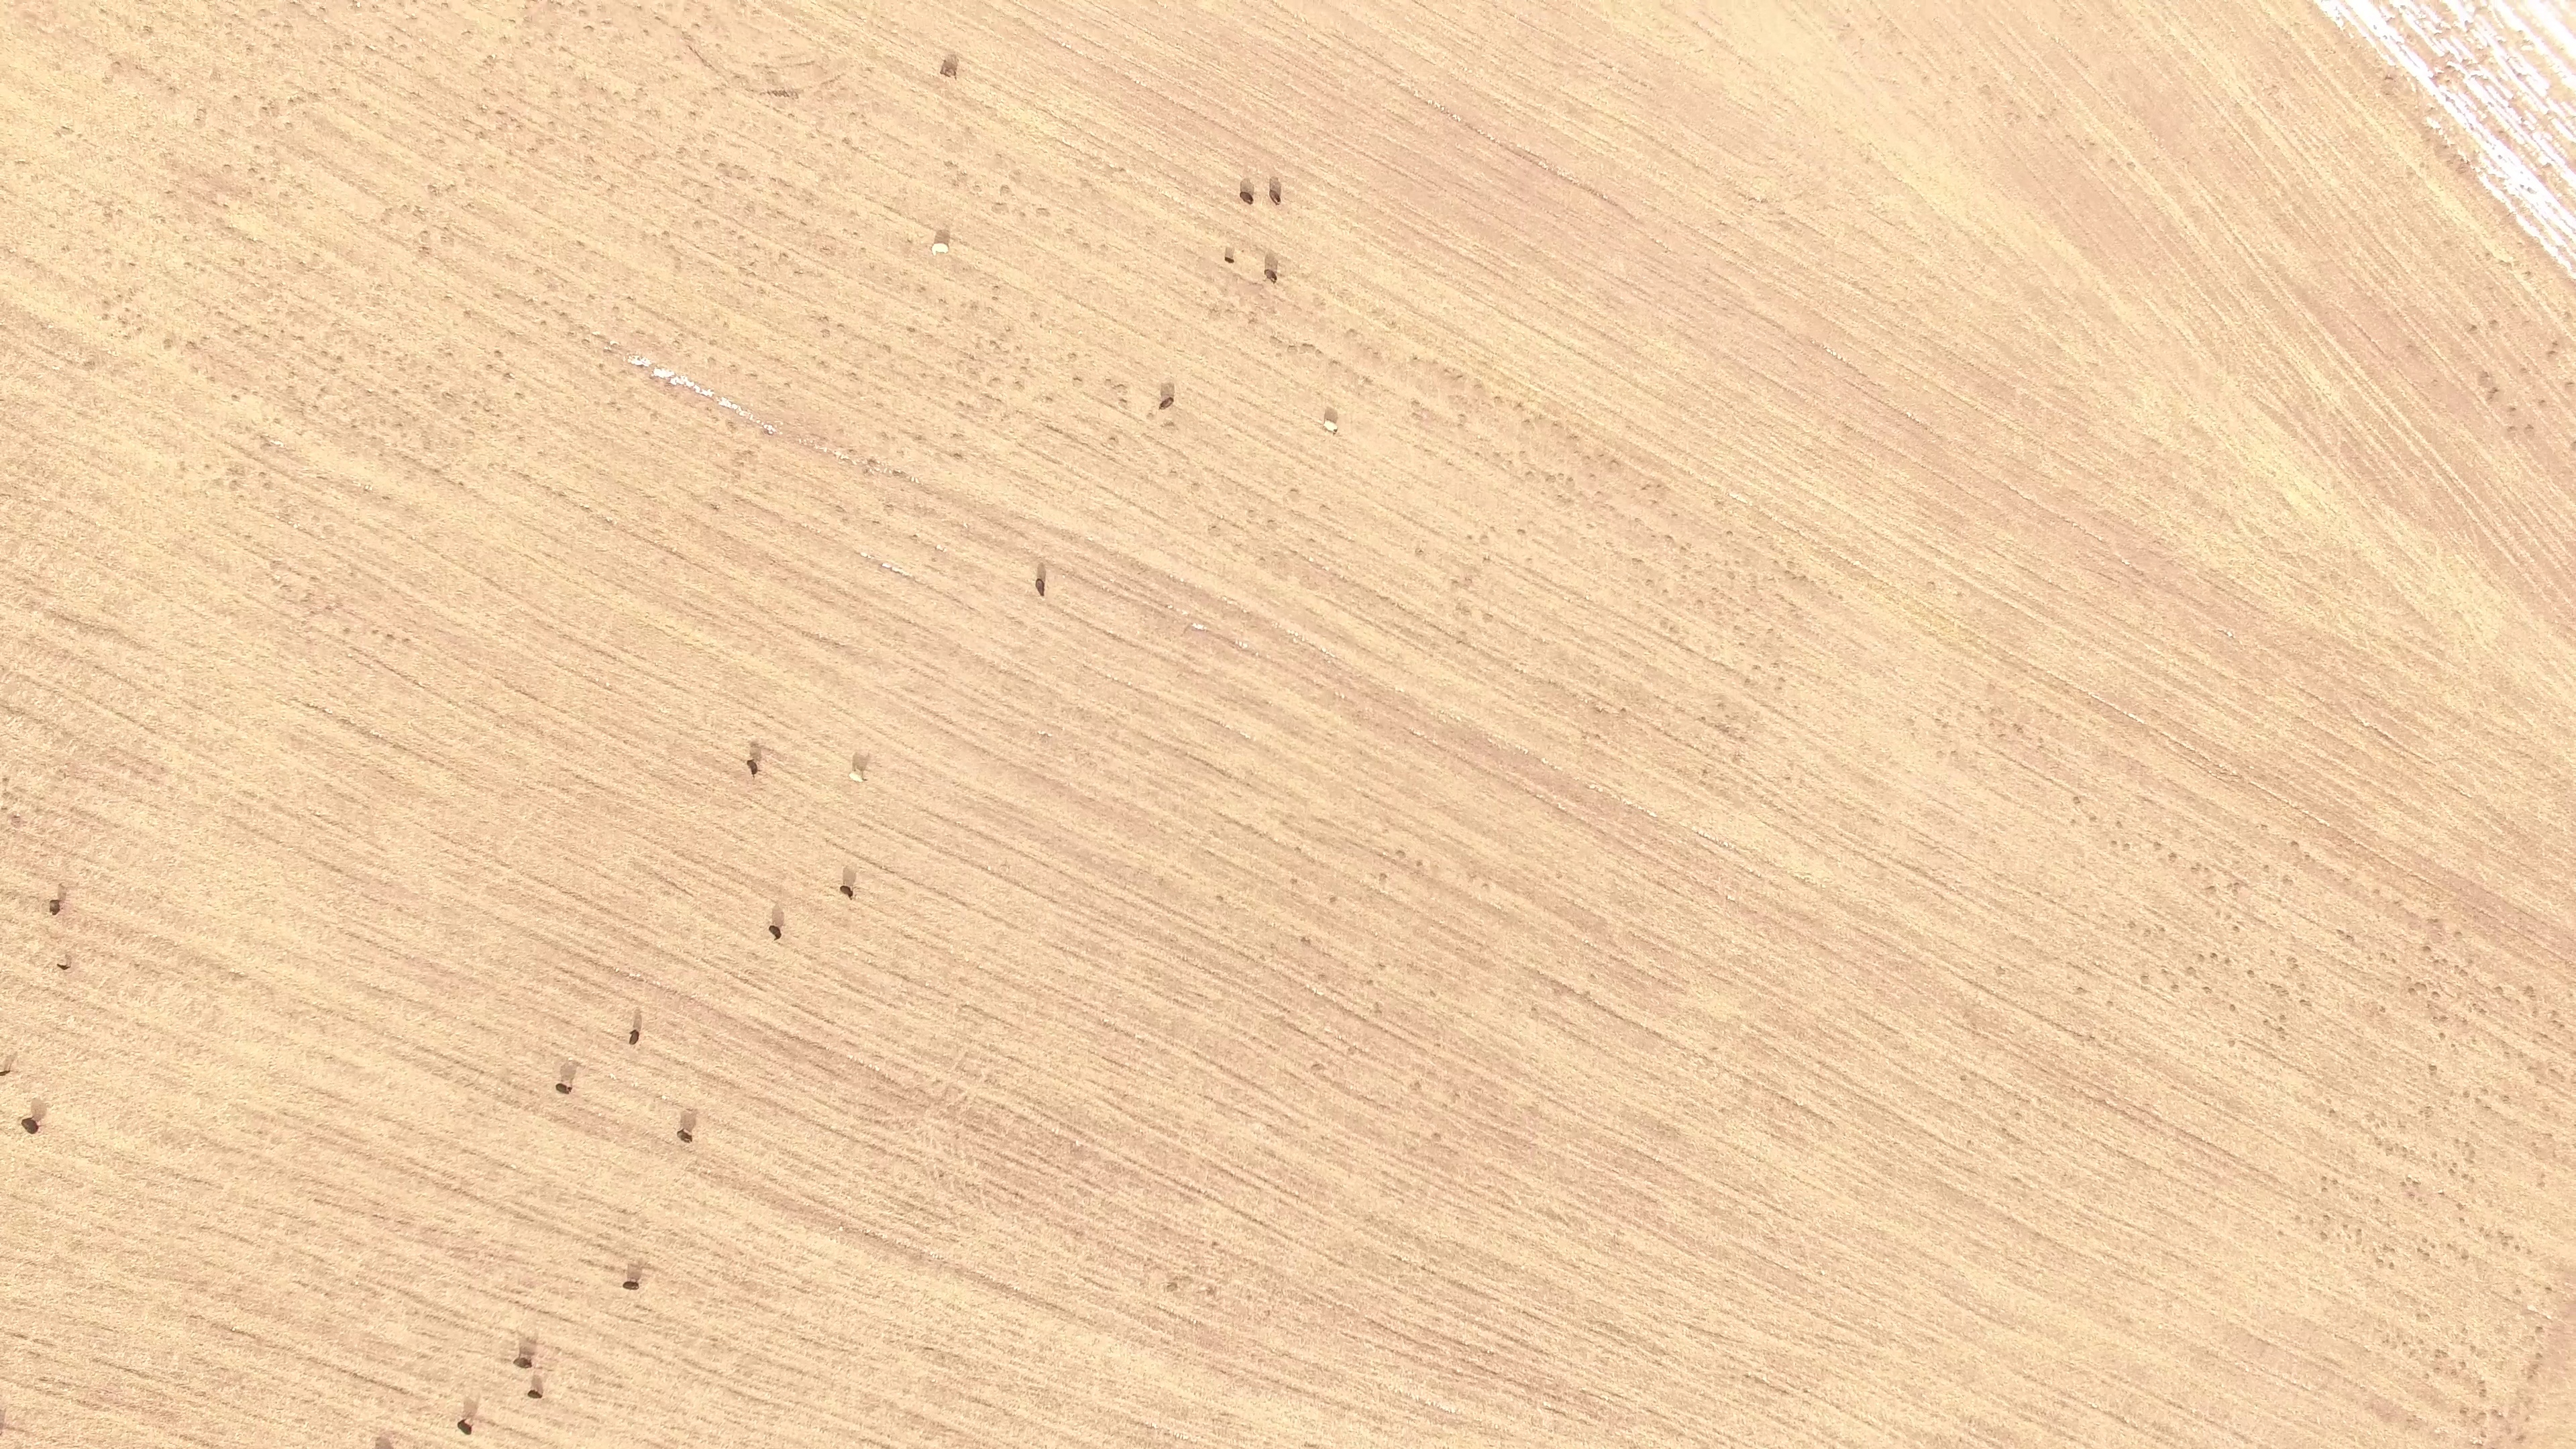sheep: (18, 1113, 44, 1138), (672, 1124, 699, 1146), (741, 755, 764, 780), (508, 1354, 538, 1372), (763, 922, 787, 943), (837, 880, 859, 902), (928, 239, 954, 256), (46, 897, 67, 918), (1236, 188, 1257, 208), (619, 1276, 645, 1293), (454, 1417, 475, 1438), (552, 1080, 575, 1097), (627, 1025, 644, 1048), (1032, 574, 1049, 599), (1320, 417, 1341, 436), (524, 1386, 547, 1402), (1157, 394, 1177, 413), (1266, 187, 1285, 206), (1260, 268, 1281, 284), (937, 64, 959, 79), (847, 769, 867, 786), (1221, 251, 1237, 267), (57, 962, 72, 973), (1, 1067, 12, 1079)
unknown: (849, 753, 870, 774), (372, 1434, 396, 1449), (560, 1063, 579, 1083), (651, 366, 674, 380), (769, 87, 789, 99), (462, 1409, 477, 1422), (523, 1335, 539, 1348), (1752, 1375, 1767, 1387), (2426, 1062, 2440, 1074), (2420, 943, 2434, 955), (1298, 934, 1313, 947), (2488, 384, 2501, 397), (468, 1401, 480, 1414), (1167, 1279, 1181, 1291), (2226, 1002, 2239, 1014), (231, 970, 243, 981), (2458, 1252, 2471, 1263), (2429, 72, 2443, 84), (1204, 1287, 1218, 1297), (1209, 1238, 1220, 1249), (2460, 1171, 2471, 1182), (2405, 985, 2417, 996), (2523, 983, 2536, 994), (2169, 981, 2181, 992), (2245, 967, 2257, 978), (62, 952, 74, 963), (1327, 894, 1339, 905), (2206, 883, 2218, 893), (1719, 726, 1731, 736), (684, 379, 696, 389), (631, 357, 644, 368), (2468, 322, 2479, 334), (2488, 317, 2500, 327), (2538, 174, 2548, 185), (2455, 167, 2466, 177), (2438, 142, 2451, 152), (2457, 1407, 2467, 1417), (390, 1383, 400, 1393), (2525, 1372, 2536, 1383), (2533, 1350, 2544, 1360), (14, 1331, 24, 1341), (2533, 1324, 2544, 1334), (952, 1265, 963, 1276), (606, 1263, 617, 1274), (2386, 1260, 2397, 1271), (2477, 1224, 2487, 1234), (2410, 1179, 2421, 1189), (2319, 1173, 2330, 1184), (872, 1117, 883, 1127), (2326, 1106, 2337, 1117), (2436, 1030, 2447, 1040), (2275, 1024, 2286, 1034), (2460, 1017, 2470, 1028), (2277, 1012, 2288, 1023), (2550, 1008, 2560, 1018), (900, 973, 910, 983), (2291, 961, 2301, 971), (131, 961, 142, 971), (2222, 956, 2233, 967), (2335, 927, 2345, 937), (333, 865, 343, 875), (1414, 858, 1424, 869), (2288, 839, 2299, 849), (2088, 814, 2098, 824), (1, 775, 11, 785), (1216, 766, 1227, 777), (386, 631, 396, 643), (1449, 577, 1460, 587), (914, 433, 925, 443), (1165, 419, 1177, 429), (704, 387, 714, 398), (500, 370, 511, 380), (596, 361, 606, 371), (334, 353, 345, 363), (2550, 339, 2560, 350), (163, 336, 173, 346), (296, 333, 307, 343), (907, 325, 918, 335), (462, 308, 473, 318), (2542, 160, 2553, 171), (2382, 73, 2392, 83), (2514, 70, 2524, 80), (2443, 62, 2455, 72), (2459, 56, 2470, 66), (2473, 4, 2483, 14), (1736, 734, 1748, 744), (1, 1419, 7, 1433), (2516, 1432, 2527, 1442), (614, 1381, 625, 1391), (2531, 1361, 2541, 1371), (2354, 1226, 2364, 1236), (619, 1206, 629, 1216), (2455, 1201, 2465, 1211), (2398, 1179, 2408, 1189), (1998, 1125, 2008, 1135), (1804, 1106, 1814, 1116), (2438, 1013, 2449, 1023), (2209, 951, 2219, 961), (668, 879, 678, 890), (2169, 851, 2180, 861), (2109, 838, 2120, 848), (2071, 794, 2081, 804), (1700, 766, 1710, 777), (2376, 730, 2386, 740), (1939, 721, 1949, 731), (370, 627, 380, 637), (1797, 574, 1807, 584), (381, 493, 391, 503), (761, 427, 772, 437), (2524, 422, 2534, 432), (2506, 405, 2518, 415), (1514, 400, 1524, 411), (643, 357, 653, 367), (419, 244, 430, 254), (425, 182, 435, 192), (722, 168, 733, 178), (716, 160, 726, 170), (2404, 32, 2414, 42), (2544, 1284, 2554, 1294), (371, 732, 381, 742), (882, 1444, 893, 1449)
